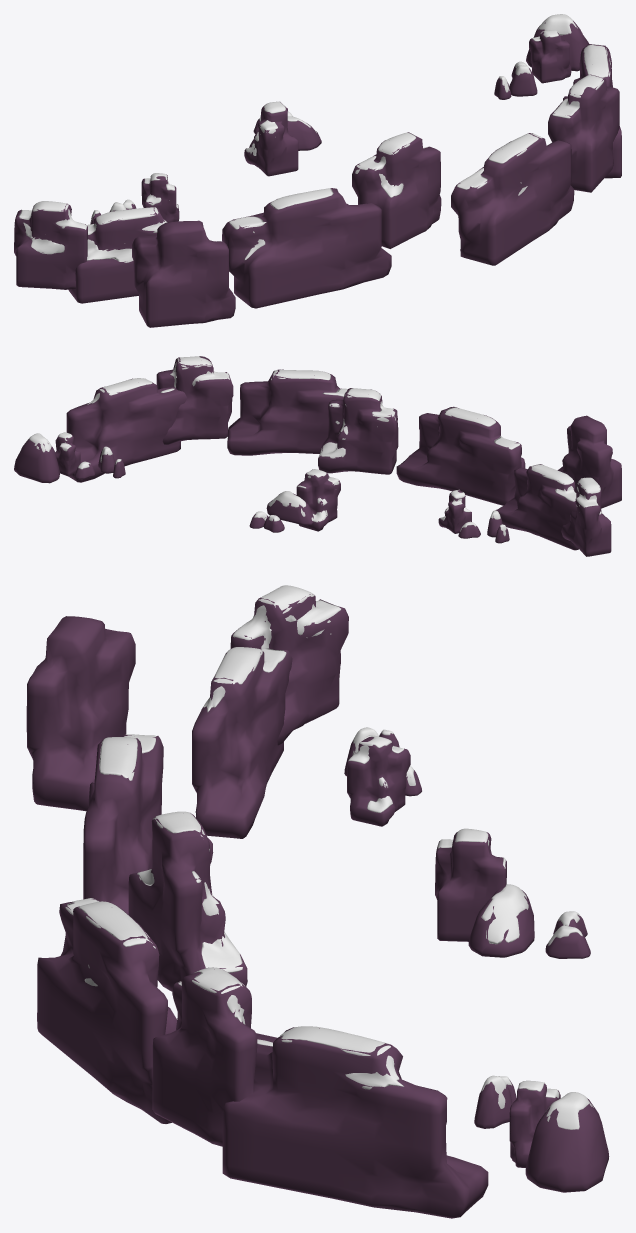
File: boulders_2.fbx
3 views of the same model, one above another, from view 1: azimuth 30°, elevation 25°; view 2: azimuth 150°, elevation 25°; view 3: azimuth 270°, elevation 25° (orthographic). The views are drawn at different scales.
Parts seen in each view (by area): view 1: Cube.040; view 2: Cube.040; view 3: Cube.040.
Boxes of the visible parts, box(x1,y1,x2,y2) form: Cube.040: box(14, 14, 621, 327); Cube.040: box(14, 356, 621, 556); Cube.040: box(26, 585, 609, 1218).
Bounding box in the file's own units: 4803 × 770 × 2298.
